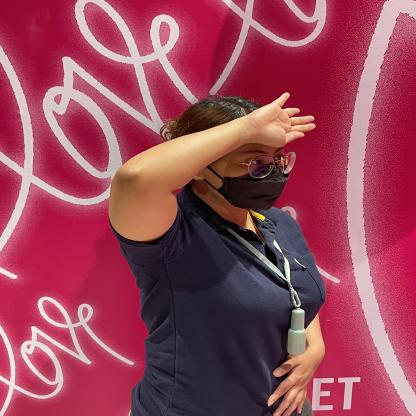Sick: (198, 77, 339, 158)
